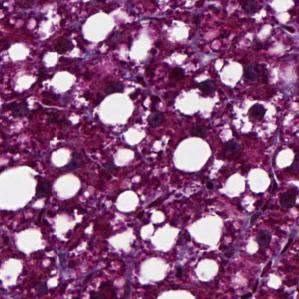steatosis: (169, 138, 219, 174)
